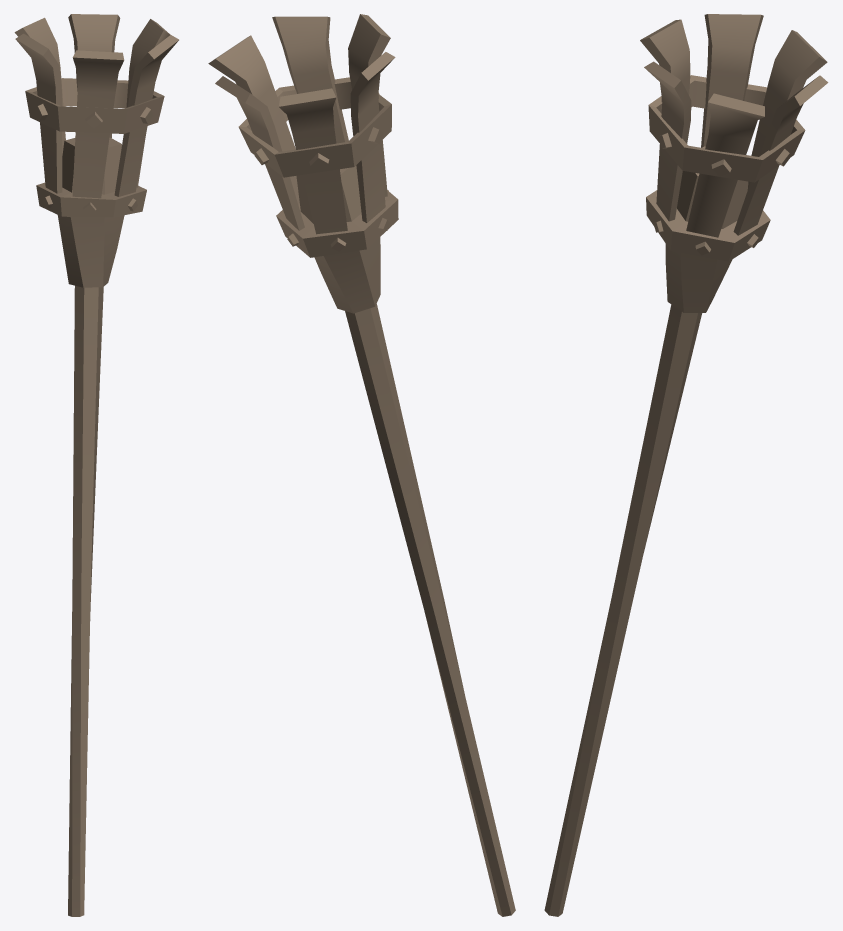
File: torch.obj
3 views of the same model, side by side, from view 1: azimuth 30°, elevation 25°; view 2: azimuth 150°, elevation 25°; view 3: azimuth 270°, elevation 25° (orthographic). The views are drawn at different scales.
Visible parts, largest first — view 1: torch_Cylinder.003; view 2: torch_Cylinder.003; view 3: torch_Cylinder.003.
Part boxes in pixels (x1=…): torch_Cylinder.003: x1=14, y1=14, x2=178, y2=916; torch_Cylinder.003: x1=208, y1=14, x2=515, y2=916; torch_Cylinder.003: x1=544, y1=14, x2=828, y2=916.
Bounding box in the file's own units: 0.5131 × 2.21 × 0.6148.
